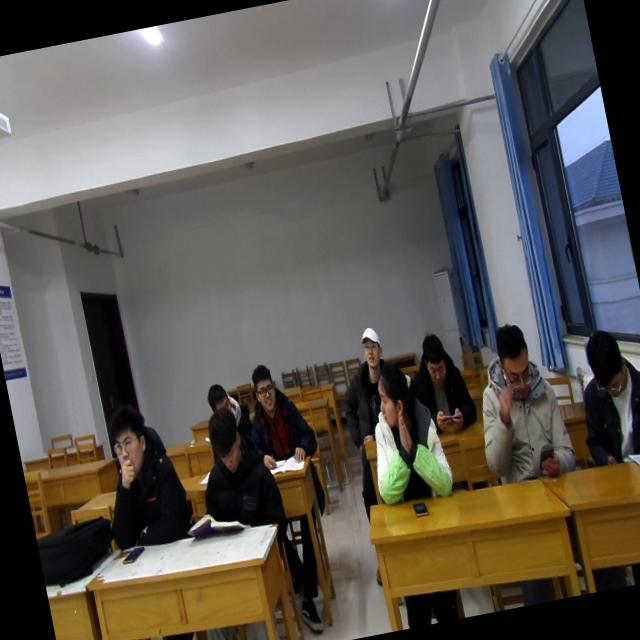down: (487, 314, 540, 406), (577, 321, 634, 404), (202, 403, 248, 477), (414, 326, 454, 392), (202, 376, 238, 424)
lookup: (98, 398, 156, 486), (246, 358, 280, 414), (354, 321, 387, 372)
sit: (82, 392, 198, 554), (464, 318, 578, 482), (354, 358, 458, 514), (186, 400, 292, 542), (561, 318, 640, 464), (241, 354, 323, 472), (402, 325, 477, 436), (328, 321, 397, 438), (198, 368, 253, 431)
